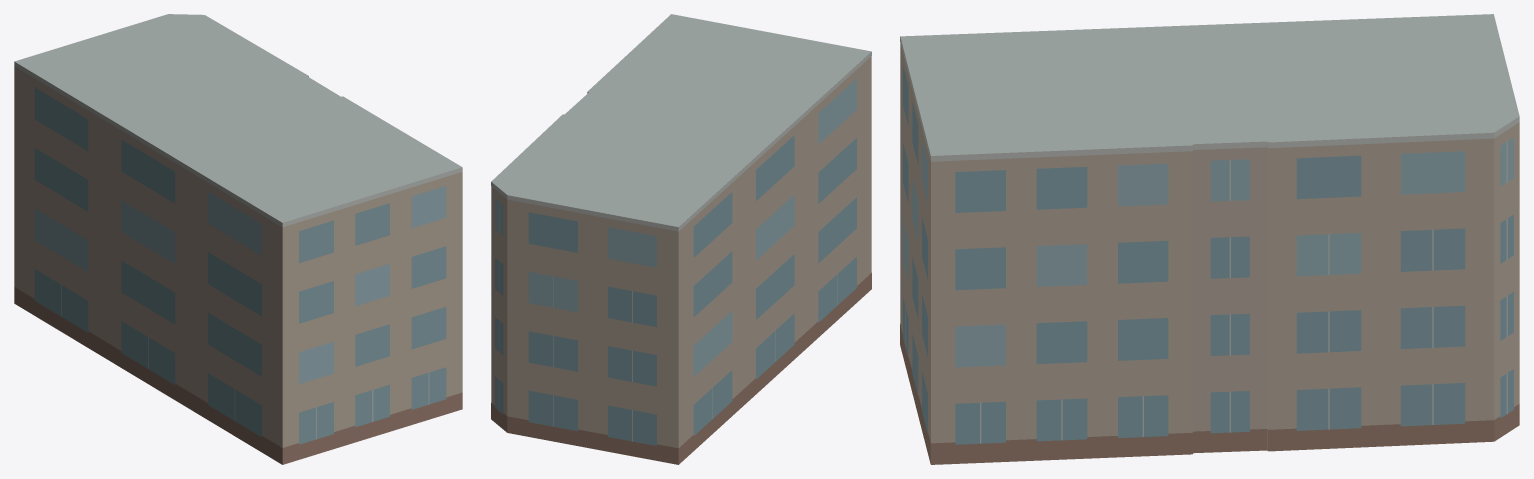
The model's file is survey-upis-32948227.glb.
The picture shows the model from 3 angles, left to right: view 1: azimuth 30°, elevation 25°; view 2: azimuth 150°, elevation 25°; view 3: azimuth 270°, elevation 25°; orthographic projection. The views are drawn at different scales.
Visible parts, largest first — view 1: survey-upis-32948227.tmp; view 2: survey-upis-32948227.tmp; view 3: survey-upis-32948227.tmp.
Boxes of the visible parts, bbox=[...] form: survey-upis-32948227.tmp: bbox=[14, 14, 462, 464]; survey-upis-32948227.tmp: bbox=[491, 14, 871, 464]; survey-upis-32948227.tmp: bbox=[900, 14, 1519, 464].
Size of the model in its own units: 12.92 by 13.1 by 23.82.
